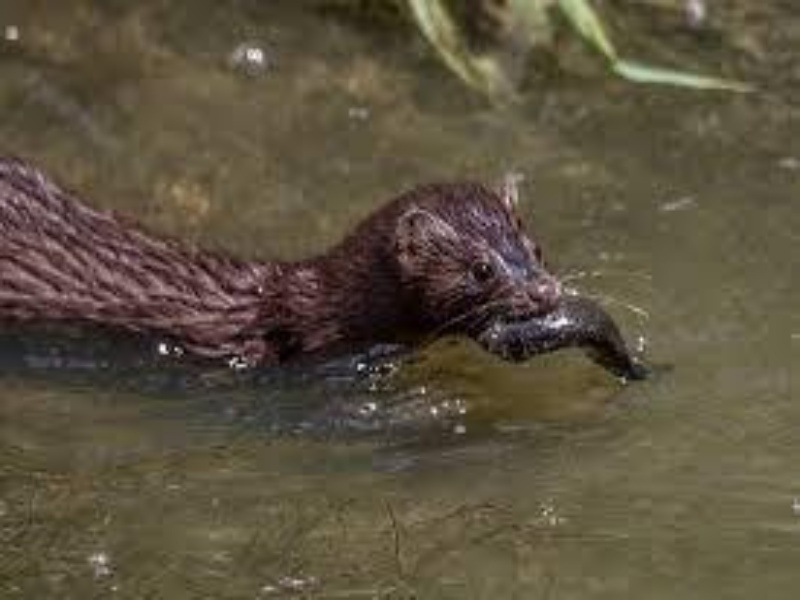minkish: (1, 138, 663, 404)
